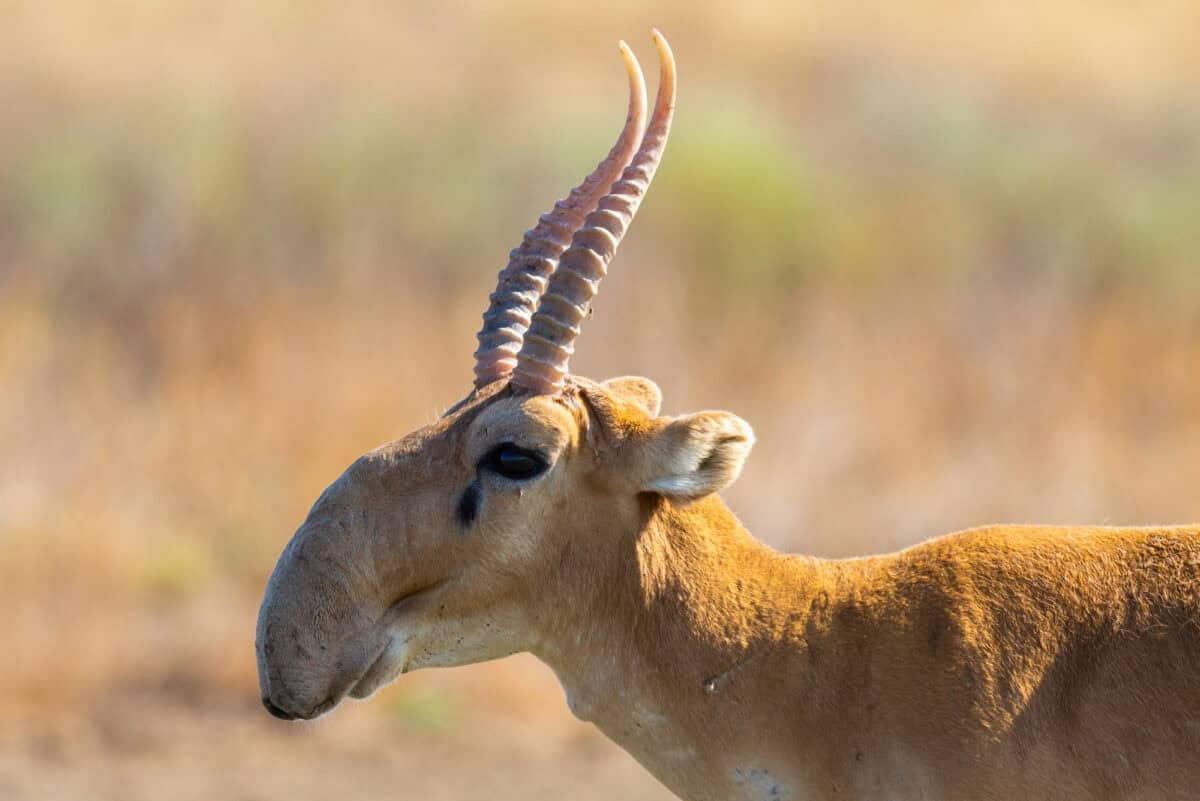saiga: (249, 29, 1200, 801)
